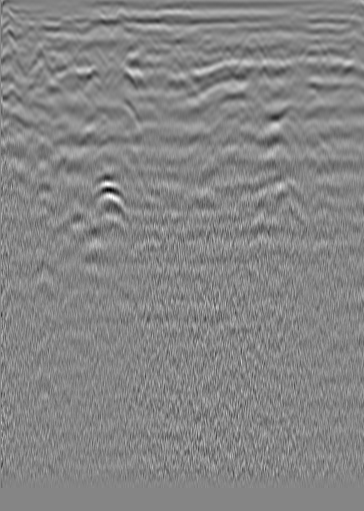가스: (89, 176, 133, 212)
상수: (303, 39, 323, 59)
우수: (178, 28, 198, 48)
